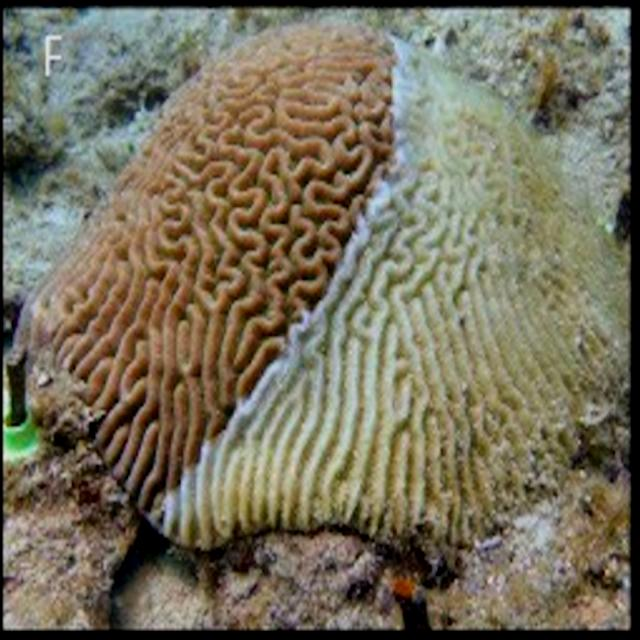Coral: (6, 20, 630, 552)
